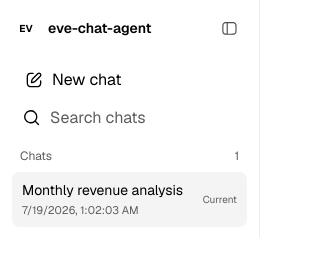
Test case: LocalDiagnosticsControls › renders local sessions in the left sidebar and filters them
The image size is (320, 267).
Expected: the text "Monthly revenue analysis" is shown, [22,180,183,200]
Type "does-not-match" into the search field labelled "Search chats". click: (144,118)
box: [50,106,237,130]
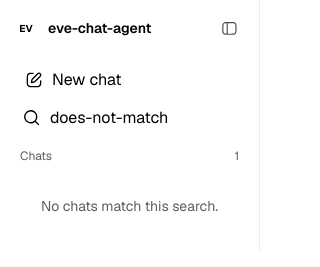
Now the text "No chats match this search." is shown, box [41,197,218,215]
